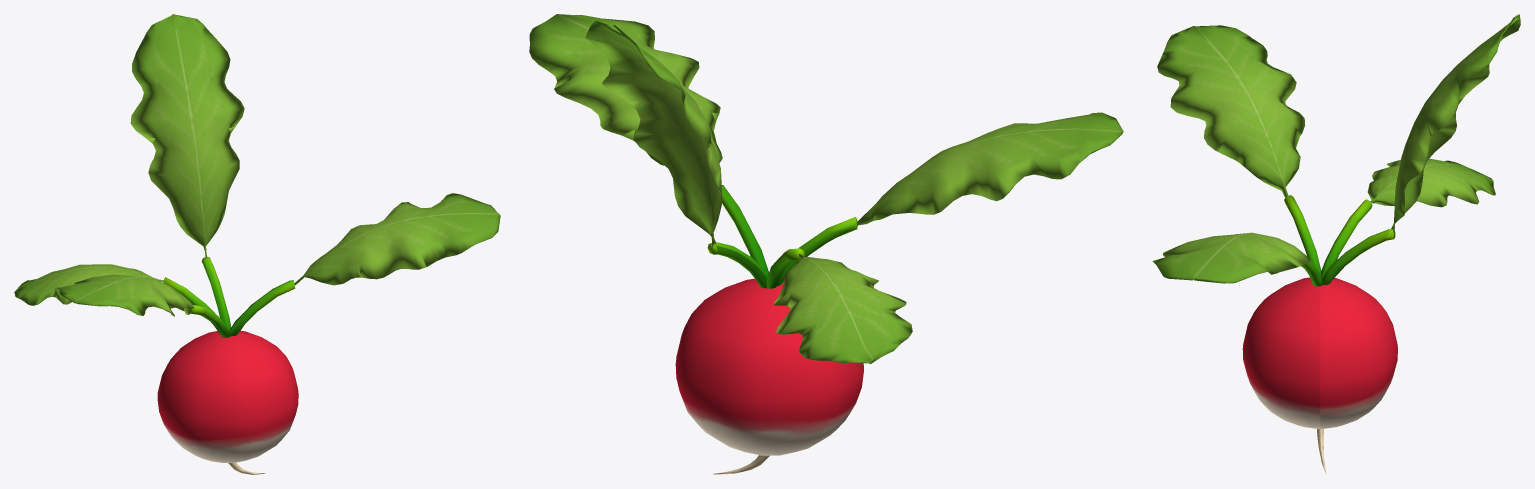
File: NP_Radish_RootForming_LOD1.fbx
3 views of the same model, side by side, from view 1: azimuth 30°, elevation 25°; view 2: azimuth 150°, elevation 25°; view 3: azimuth 270°, elevation 25° (orthographic). The views are drawn at different scales.
Visible parts, largest first — view 1: NP_Radish_RootForming; view 2: NP_Radish_RootForming; view 3: NP_Radish_RootForming.
Part boxes in pixels (x1,y1,x2,y2): NP_Radish_RootForming: (14,14,500,474); NP_Radish_RootForming: (529,14,1123,474); NP_Radish_RootForming: (1152,14,1520,473).
Size of the model in its own units: 79.26 by 70.21 by 51.7.
